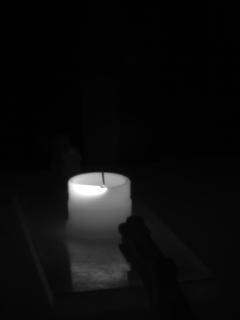tip_wire_left: (85, 163, 105, 187)
tip_wire_right: (103, 161, 117, 187)
